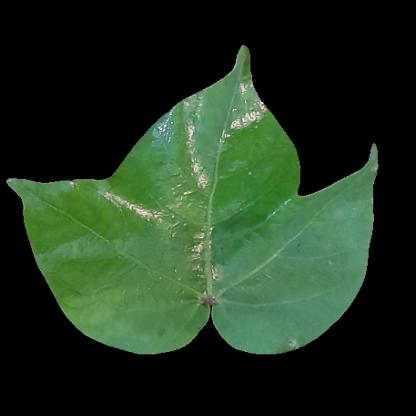healthy: (172, 124, 283, 310), (60, 204, 175, 291), (285, 205, 365, 297), (90, 293, 198, 340)
